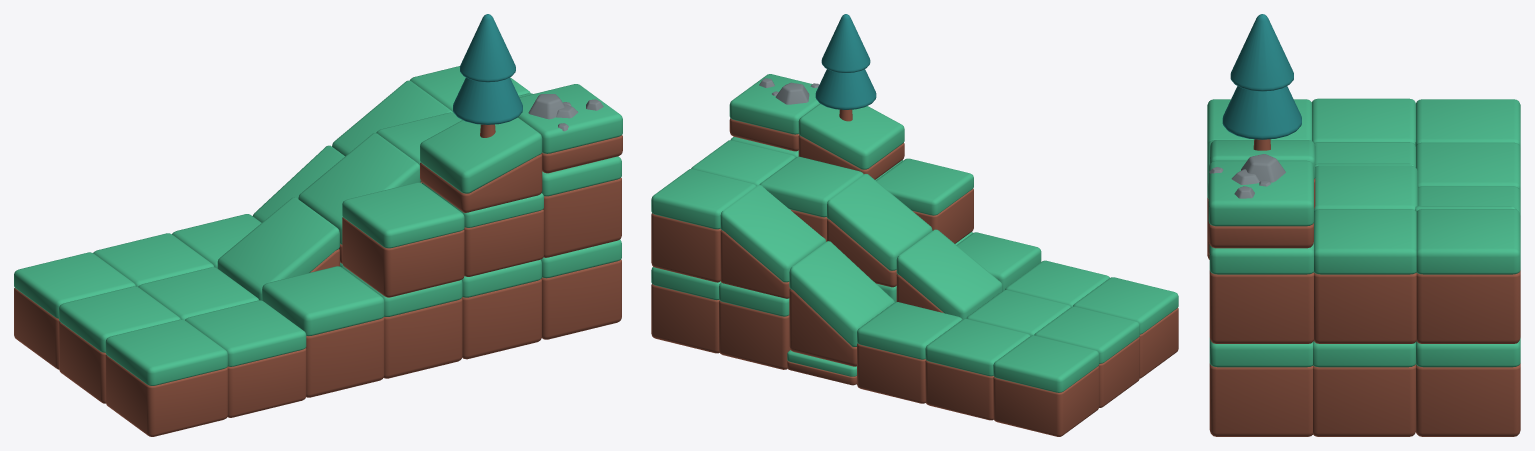
File: floor2.glb
The picture shows the model from 3 angles, left to right: view 1: azimuth 30°, elevation 25°; view 2: azimuth 150°, elevation 25°; view 3: azimuth 270°, elevation 25°; orthographic projection. The views are drawn at different scales.
Parts seen in each view (by area): view 1: rocksA_forest; view 2: rocksA_forest; view 3: rocksA_forest.
Boxes of the visible parts, box(x1,y1,x2,y2) form: rocksA_forest: box(14, 14, 622, 436); rocksA_forest: box(651, 14, 1178, 436); rocksA_forest: box(1207, 14, 1520, 436).
Bounding box in the file's own units: 11.86 × 7.59 × 5.95.
